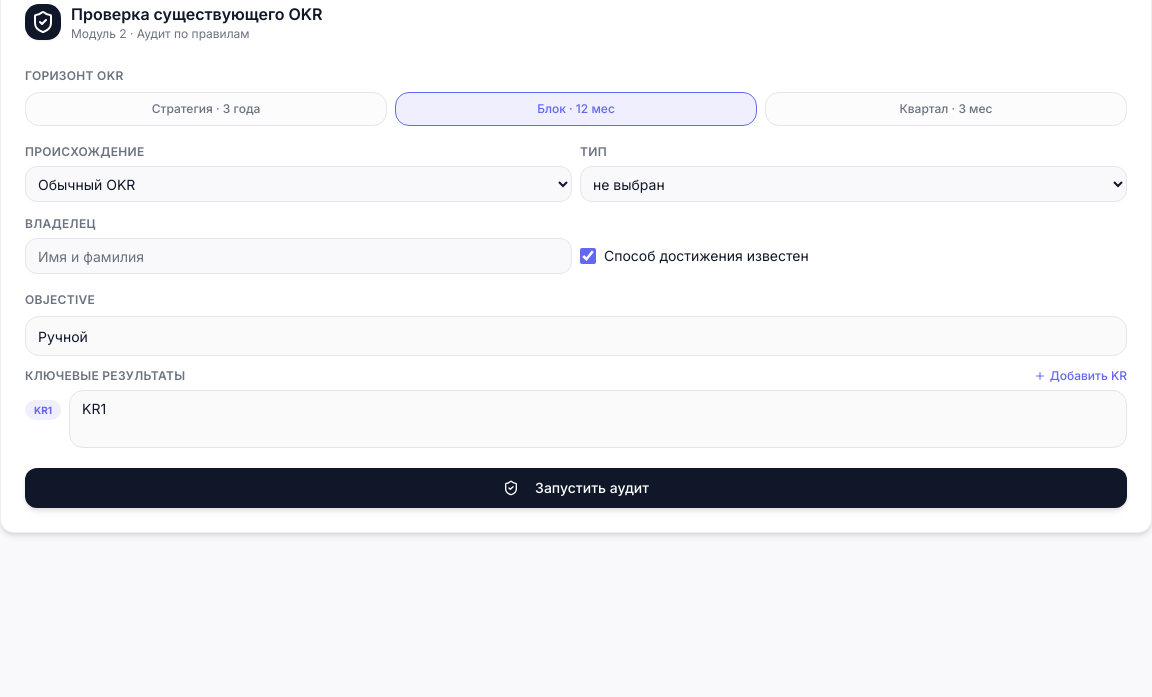
OkrValidator: fix-button + save/replace › если sourceOkrId НЕ задан → показывается кнопка 'Сохранить как новый'
Click the button "Запустить аудит": (576, 488) [25,468,1127,508]
(page scrolled)
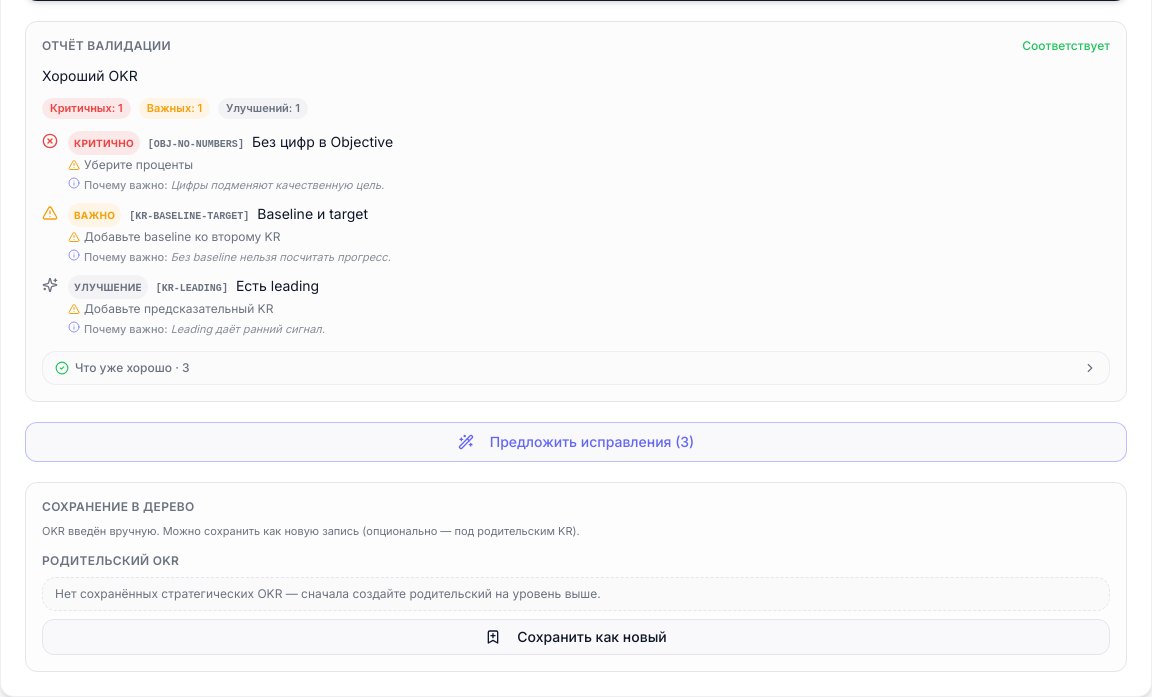
Now the button with test id "save-as-new-button" is shown, box [42,619,1110,655]
